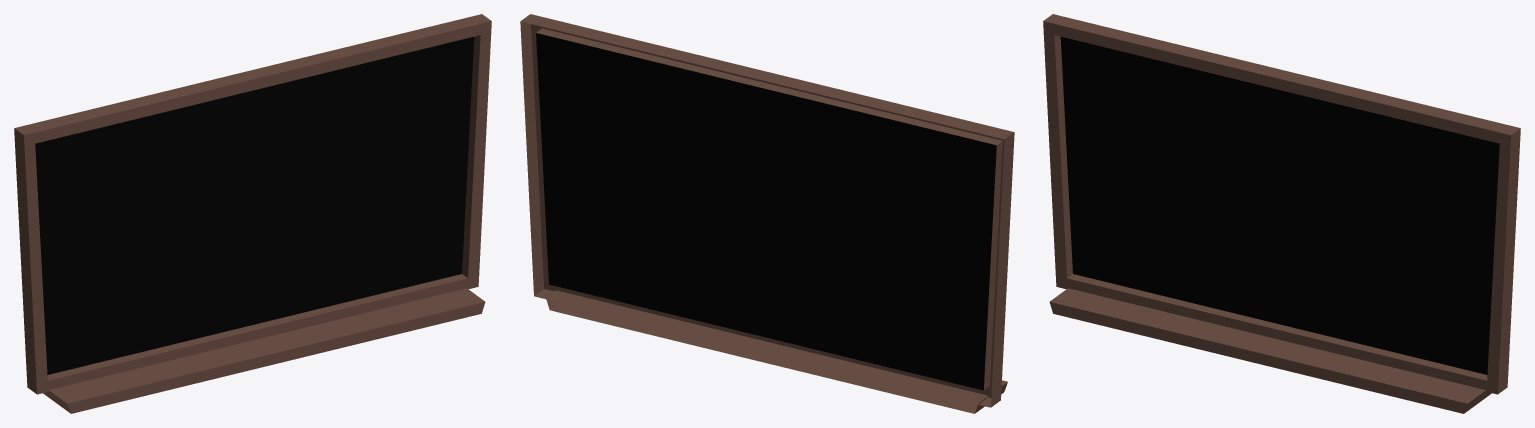
File: Props.fbx_Window.fbx_Chalk_Board.fbx
The picture shows the model from 3 angles, left to right: view 1: azimuth 30°, elevation 25°; view 2: azimuth 150°, elevation 25°; view 3: azimuth 330°, elevation 25°; orthographic projection. The views are drawn at different scales.
Visible parts, largest first — view 1: Chalk Board; view 2: Chalk Board; view 3: Chalk Board.
Boxes of the visible parts, <box> form: Chalk Board: <box>14,14,491,413</box>; Chalk Board: <box>520,14,1014,413</box>; Chalk Board: <box>1043,14,1520,413</box>.
Bounding box in the file's own units: 3.37 × 1.87 × 0.3569.
